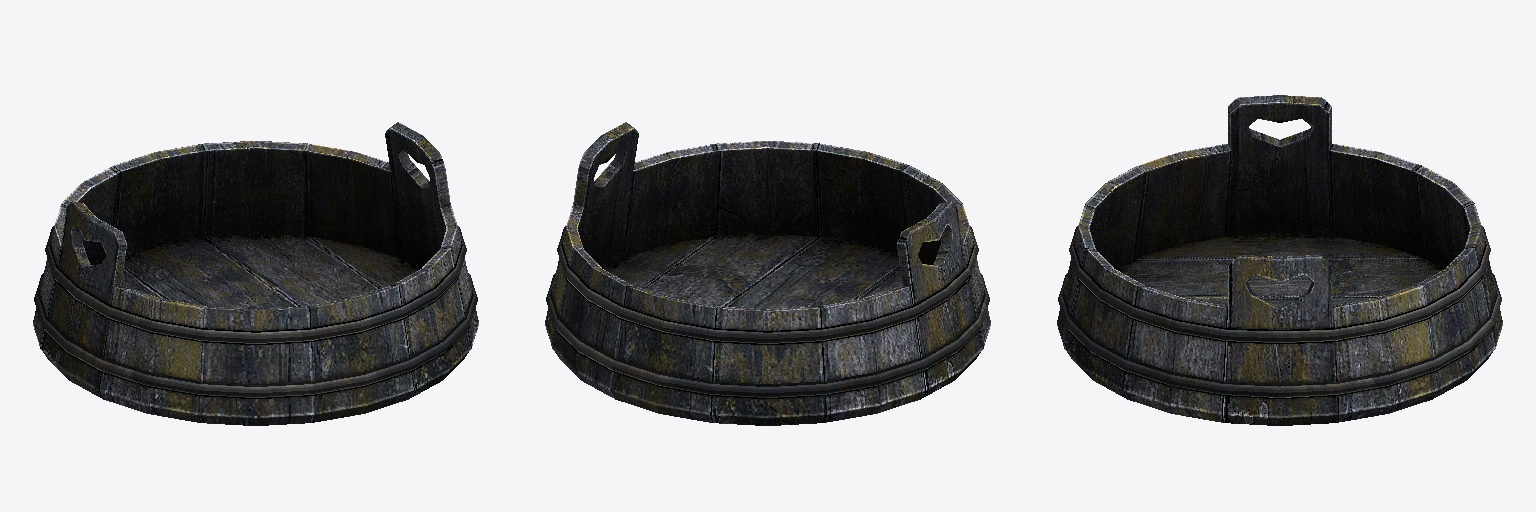
The picture shows the model from 3 angles: view 1: azimuth 30°, elevation 25°; view 2: azimuth 150°, elevation 25°; view 3: azimuth 270°, elevation 25°; orthographic projection.
Parts seen in each view (by area): view 1: fish_bowl_empty; view 2: fish_bowl_empty; view 3: fish_bowl_empty.
Part boxes in pixels (x1,y1,x2,y2): fish_bowl_empty: (33, 122, 478, 425); fish_bowl_empty: (545, 122, 990, 425); fish_bowl_empty: (1057, 95, 1502, 425).
Size of the model in its own units: 41.99 by 16.39 by 41.99.
Materials: 1 (1 with a texture image).